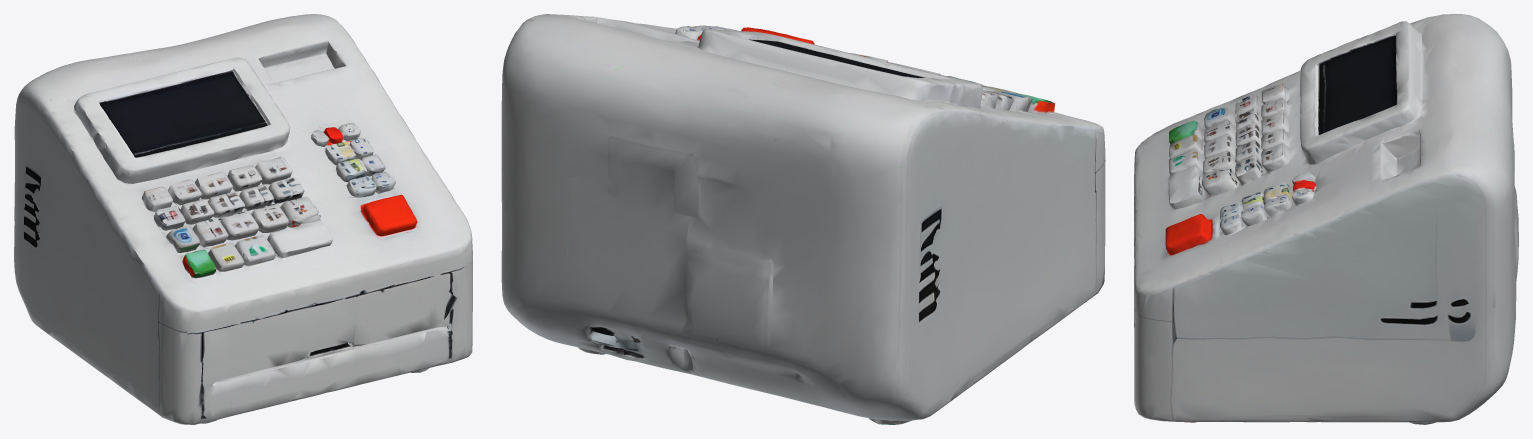
File: cash_register_001_001.glb
3 renders of one model, left to right at view 1: azimuth 30°, elevation 25°; view 2: azimuth 150°, elevation 25°; view 3: azimuth 270°, elevation 25°, orthographic. The views are drawn at different scales.
Visible parts, largest first — view 1: 77de285e-dc43-4b4f-92c9-62ee6f8a2b5b_texturing.obj; view 2: 77de285e-dc43-4b4f-92c9-62ee6f8a2b5b_texturing.obj; view 3: 77de285e-dc43-4b4f-92c9-62ee6f8a2b5b_texturing.obj.
Boxes of the visible parts, left/top/right/bottom form: 77de285e-dc43-4b4f-92c9-62ee6f8a2b5b_texturing.obj: left=14, top=14, right=472, bottom=424; 77de285e-dc43-4b4f-92c9-62ee6f8a2b5b_texturing.obj: left=501, top=14, right=1105, bottom=424; 77de285e-dc43-4b4f-92c9-62ee6f8a2b5b_texturing.obj: left=1134, top=14, right=1518, bottom=424.
Size of the model in its own units: 0.3797 by 0.3 by 0.3793.
Materials: 1 (1 with a texture image).
